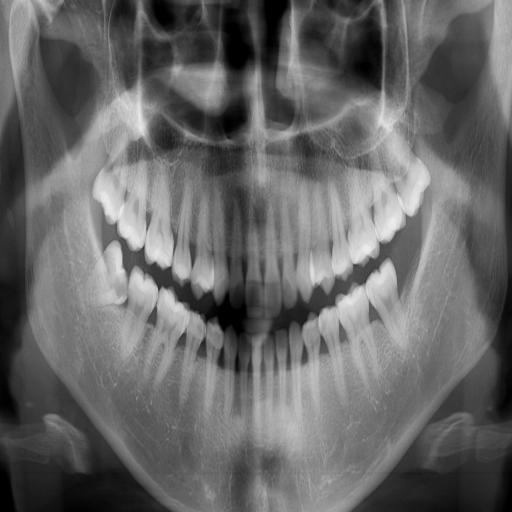Wisdom teeth: (95, 242, 127, 305), (395, 158, 429, 216), (93, 169, 124, 223)
